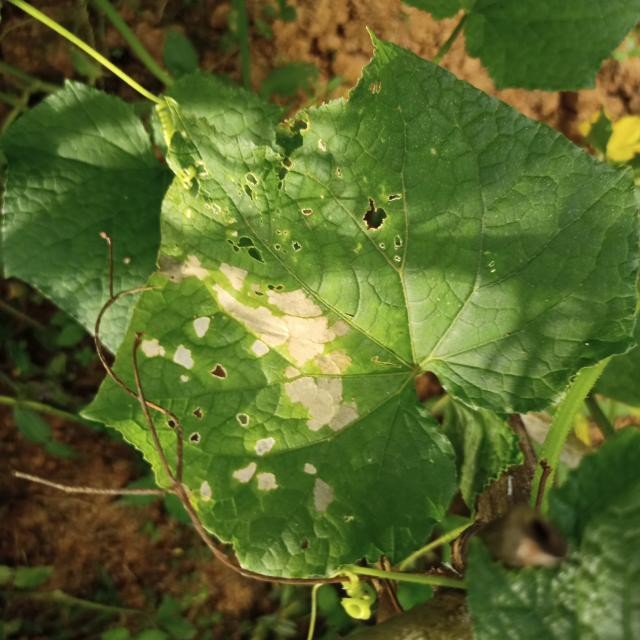disease_cucumber: (137, 250, 362, 520)
